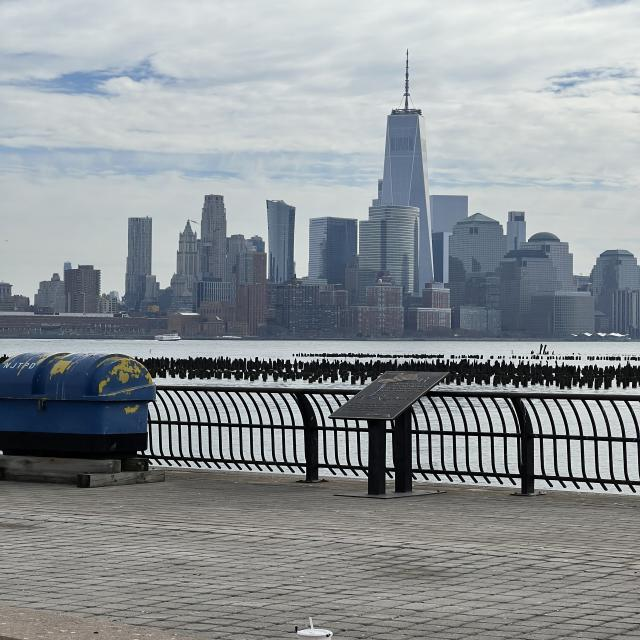WTC: (382, 49, 429, 206)
